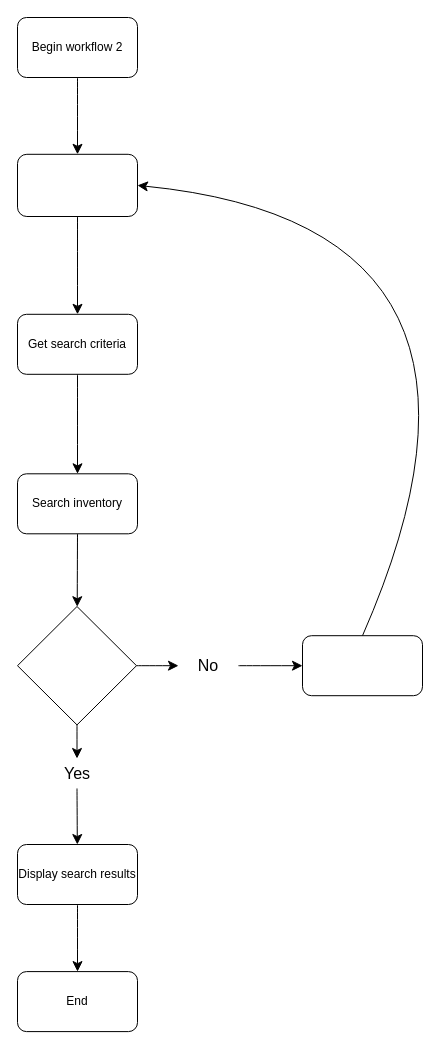
The diagram is 440 pixels wide and 1050 high, and some of its shapes have lost their labels. The shapes that lost their labels are listed below. From the top down, each one's centre as x and y in pixels, then its label:
(x=77, y=184): Display search filters
(x=76, y=665): Valid options in inventory
(x=362, y=665): No matches
